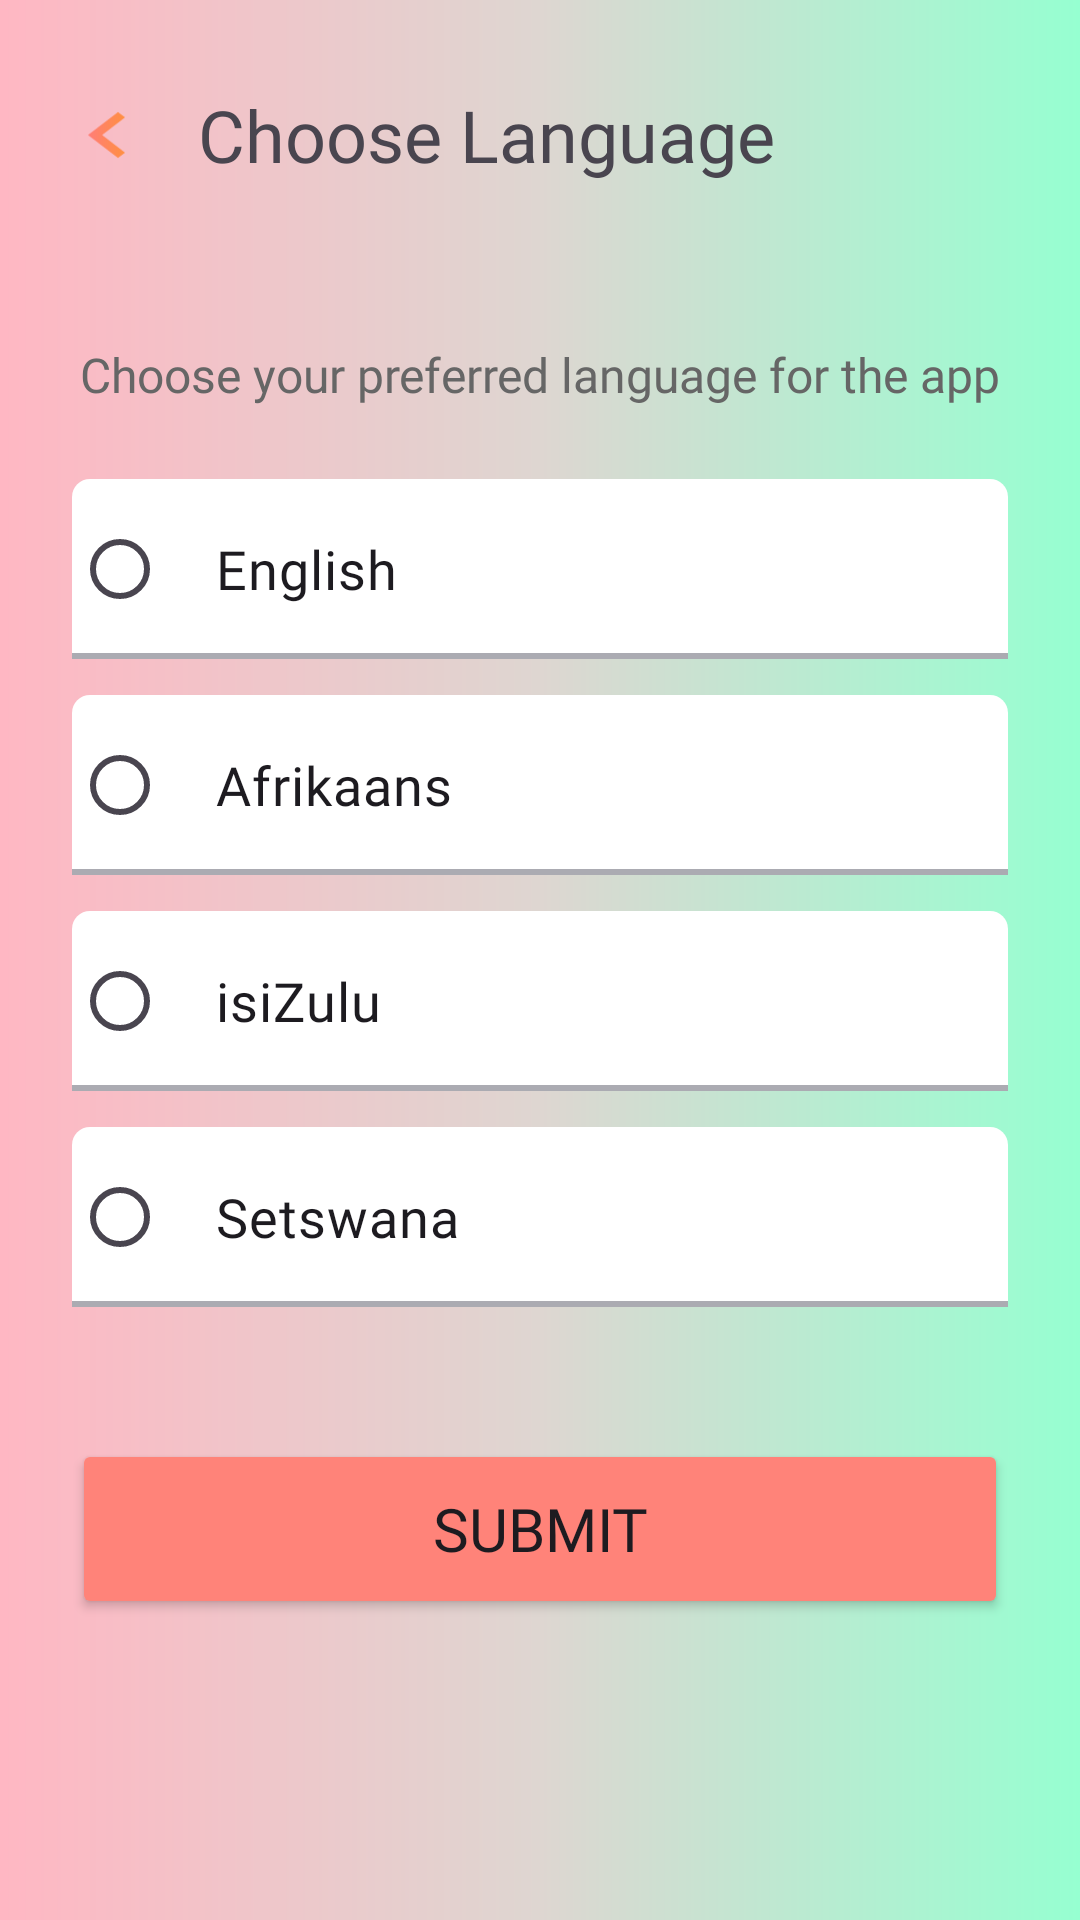

Point at icon controls on the screen. Image size 1080*1920, points as [x,y].
arrow left: [106,135]
